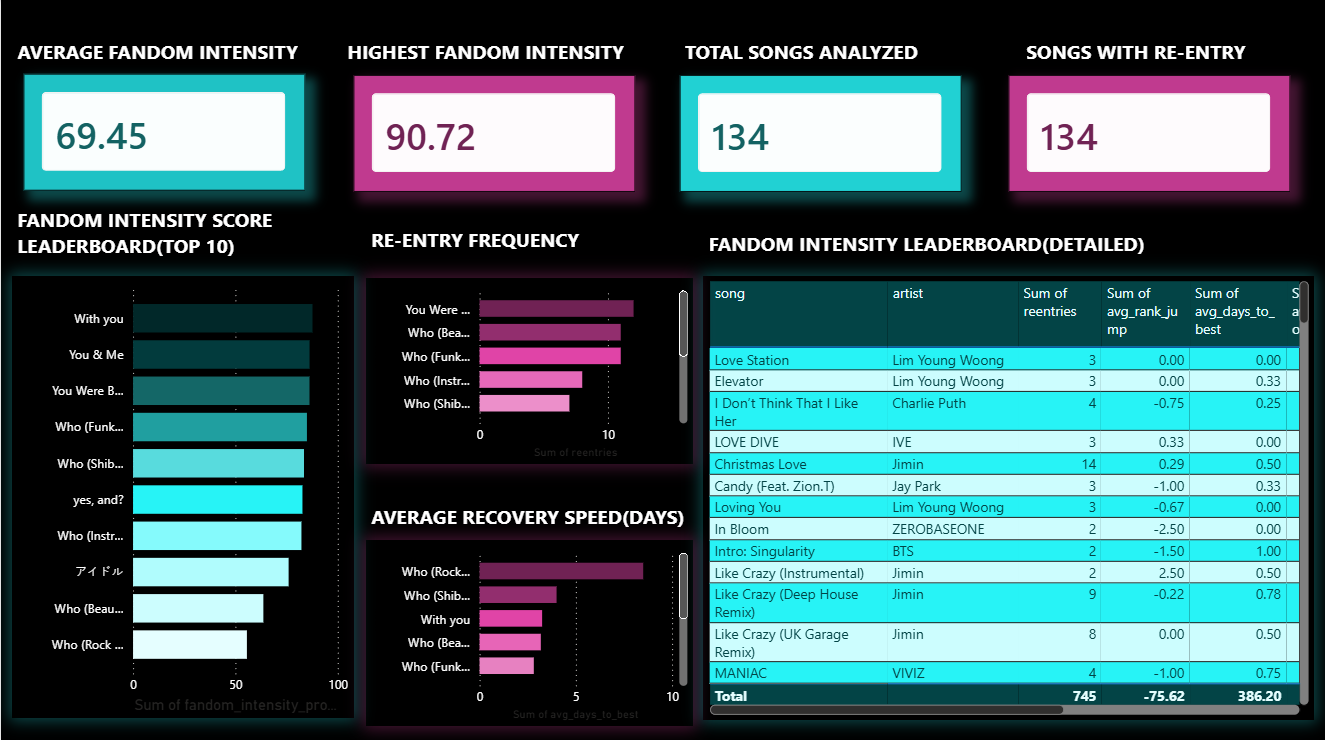

The page's visual inventory and layout, read from the dashboard file:
{"tool":"powerbi","page":{"name":"Fandom Intensity Leaderboard","canvas":[1280,720],"ordinal":5},"visuals":[{"type":"tableEx","fields":{"Values":["Fandom.song","Fandom.artist","Sum(Fandom.reentries)","Sum(Fandom.avg_rank_jump)","Sum(Fandom.avg_days_to_best)","Sum(Fandom.avg_retention)","Sum(Fandom.reentry_frequency_per_100_days)","Sum(Fandom.fandom_intensity_proxy)"]},"box":[678.6,266.4,589.2,427.8],"z":0},{"type":"textbox","box":[11,32.9,282.1,39.2],"z":1000},{"type":"textbox","box":[329.1,32.9,282.1,39.2],"z":2000},{"type":"textbox","box":[655,32.9,296.2,39.2],"z":3000},{"type":"textbox","box":[984.1,32.9,282.1,39.2],"z":4000},{"type":"textbox","box":[352.6,213.1,282.1,39.2],"z":5000},{"type":"textbox","box":[11,194.3,282.1,72.1],"z":6000},{"type":"textbox","box":[352.6,481.1,326,39.2],"z":7000},{"type":"textbox","box":[677.9,216.8,588.7,49.4],"z":8000},{"type":"cardVisual","fields":{"Data":["Fandom.Average Fandom Intensity"]},"box":[22,71.4,271.7,112.5],"z":9000},{"type":"cardVisual","fields":{"Data":["Fandom.Highest Fandom Intensity"]},"box":[340.3,72.7,271.7,112.5],"z":10000},{"type":"cardVisual","fields":{"Data":["Fandom.Total Songs Analyzed"]},"box":[654.5,72.7,271.7,112.5],"z":11000},{"type":"cardVisual","fields":{"Data":["Fandom.Fandom Songs With Reentry"]},"box":[972.9,72.7,271.7,112.5],"z":12000},{"type":"clusteredBarChart","title":"South Korea Comeback Activity Over Time","fields":{"Category":["Fandom.song"],"Y":["Sum(Fandom.fandom_intensity_proxy)"]},"box":[11,266.2,329.3,426.8],"z":13000},{"type":"clusteredBarChart","title":"South Korea Comeback Activity Over Time","fields":{"Category":["Fandom.song"],"Y":["Sum(Fandom.reentries)"]},"box":[352.7,267.6,315.6,179.8],"z":14000},{"type":"clusteredBarChart","title":"South Korea Comeback Activity Over Time","fields":{"Category":["Fandom.song"],"Y":["Sum(Fandom.avg_days_to_best)"]},"box":[352.7,521.4,315.6,179.8],"z":15000}]}

Visuals, with their boxes in screenshot pixels (x1, y1, x2, y2), scaled from the page's 1280x720 canvas onto the 1325x740 screenshot:
tableEx - Fandom.song x Fandom.artist: {"left": 702, "top": 274, "right": 1312, "bottom": 713}
textbox: {"left": 11, "top": 34, "right": 303, "bottom": 74}
textbox: {"left": 341, "top": 34, "right": 633, "bottom": 74}
textbox: {"left": 678, "top": 34, "right": 985, "bottom": 74}
textbox: {"left": 1019, "top": 34, "right": 1311, "bottom": 74}
textbox: {"left": 365, "top": 219, "right": 657, "bottom": 259}
textbox: {"left": 11, "top": 200, "right": 303, "bottom": 274}
textbox: {"left": 365, "top": 494, "right": 702, "bottom": 535}
textbox: {"left": 702, "top": 223, "right": 1311, "bottom": 274}
cardVisual - Fandom.Average Fandom Intensity: {"left": 23, "top": 73, "right": 304, "bottom": 189}
cardVisual - Fandom.Highest Fandom Intensity: {"left": 352, "top": 75, "right": 634, "bottom": 190}
cardVisual - Fandom.Total Songs Analyzed: {"left": 678, "top": 75, "right": 959, "bottom": 190}
cardVisual - Fandom.Fandom Songs With Reentry: {"left": 1007, "top": 75, "right": 1288, "bottom": 190}
"South Korea Comeback Activity Over Time" clusteredBarChart: {"left": 11, "top": 274, "right": 352, "bottom": 712}
"South Korea Comeback Activity Over Time" clusteredBarChart: {"left": 365, "top": 275, "right": 692, "bottom": 460}
"South Korea Comeback Activity Over Time" clusteredBarChart: {"left": 365, "top": 536, "right": 692, "bottom": 721}
